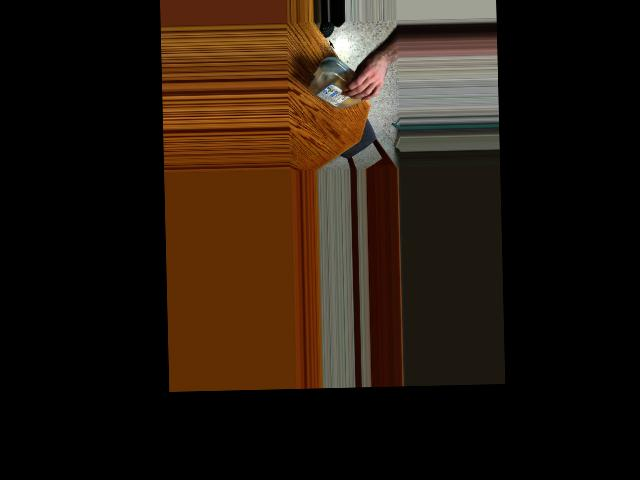cheese: (307, 58, 375, 111)
